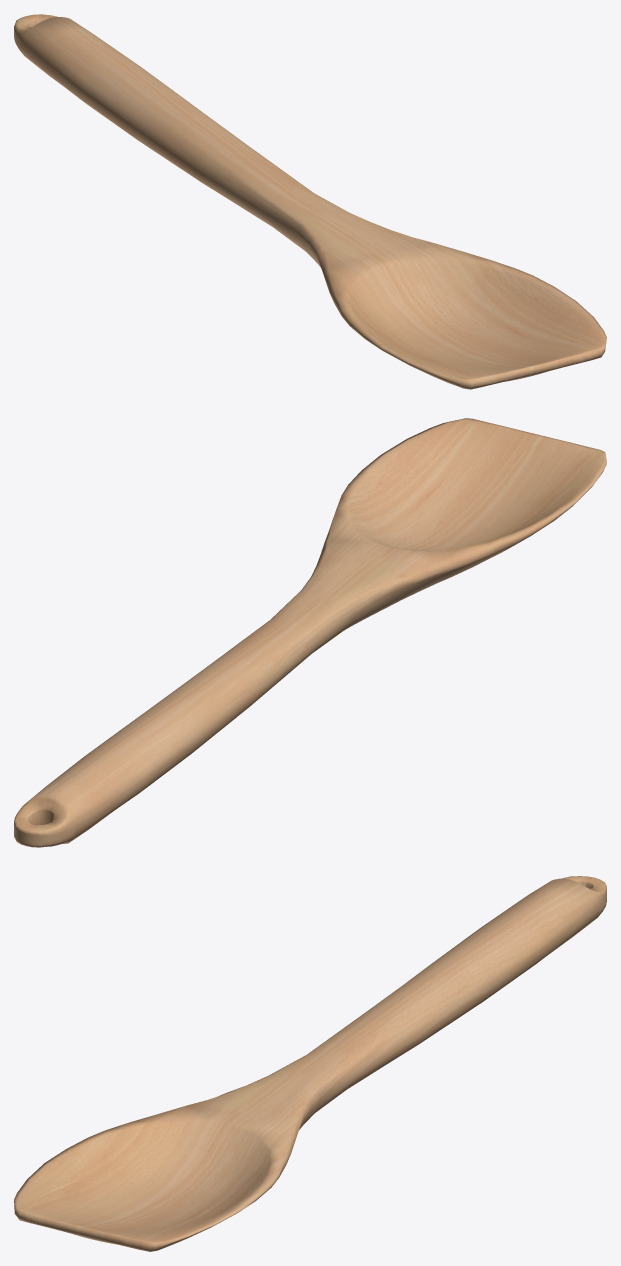
3 renders of one model, top to bottom at view 1: azimuth 30°, elevation 25°; view 2: azimuth 150°, elevation 25°; view 3: azimuth 330°, elevation 25°, orthographic.
Parts seen in each view (by area): view 1: Kitchen_Utensil_Spoon; view 2: Kitchen_Utensil_Spoon; view 3: Kitchen_Utensil_Spoon.
Part boxes in pixels (x1,y1,x2,y2): Kitchen_Utensil_Spoon: [14, 14, 606, 389]; Kitchen_Utensil_Spoon: [14, 418, 606, 847]; Kitchen_Utensil_Spoon: [14, 876, 606, 1251].
Size of the model in its own units: 0.0684 by 0.0179 by 0.3094.
1 material, 1 textured.
